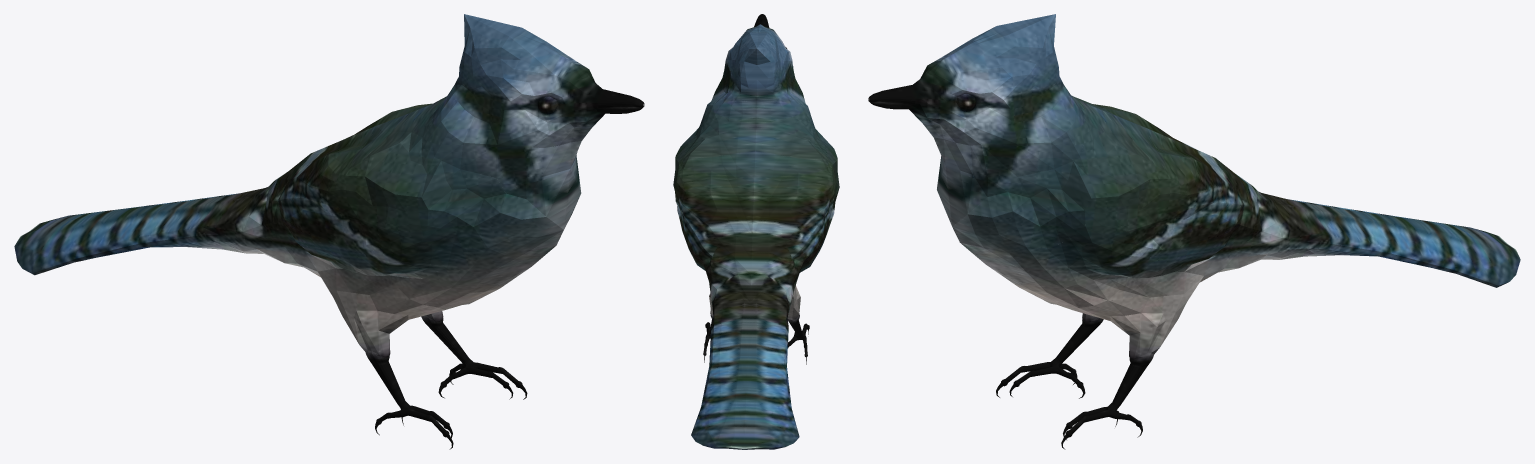
File: dbird01.glb
The picture shows the model from 3 angles, left to right: view 1: azimuth 30°, elevation 25°; view 2: azimuth 150°, elevation 25°; view 3: azimuth 270°, elevation 25°; orthographic projection. The views are drawn at different scales.
Visible parts, largest first — view 1: IJIXE2DOJAYDIAWV6QEJ0VDQB; view 2: IJIXE2DOJAYDIAWV6QEJ0VDQB; view 3: IJIXE2DOJAYDIAWV6QEJ0VDQB.
Part boxes in pixels (<box>): IJIXE2DOJAYDIAWV6QEJ0VDQB: <box>14,14,644,449</box>; IJIXE2DOJAYDIAWV6QEJ0VDQB: <box>673,14,839,449</box>; IJIXE2DOJAYDIAWV6QEJ0VDQB: <box>868,14,1520,449</box>.
Bounding box in the file's own units: 1.48 × 1.73 × 2.5.
Materials: 1 (1 with a texture image).
